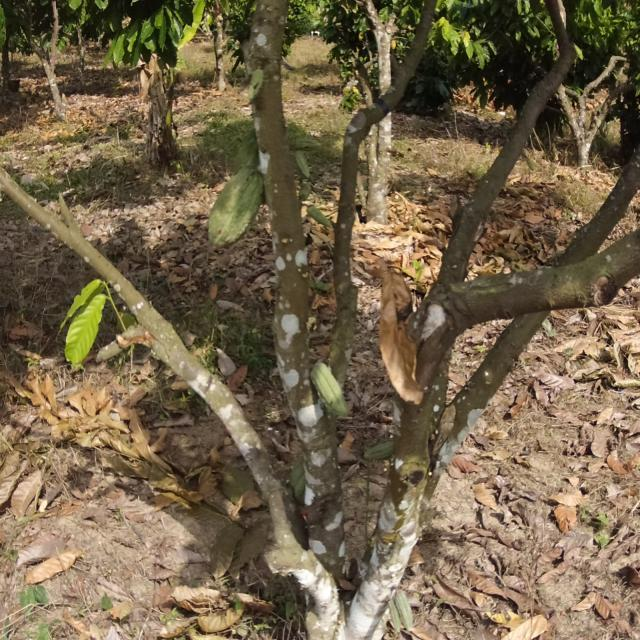Immature: (306, 356, 359, 436), (275, 119, 327, 186), (241, 62, 272, 122)
Mature_Unripe: (205, 160, 286, 261)
